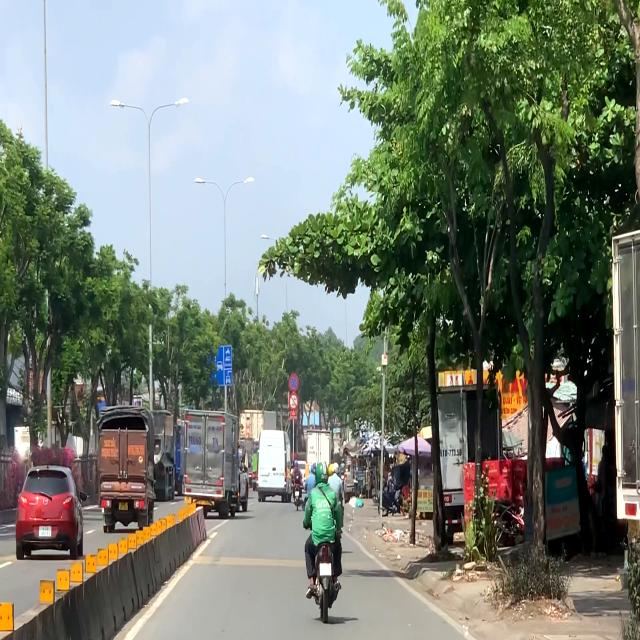P.130: (288, 373, 299, 392)
